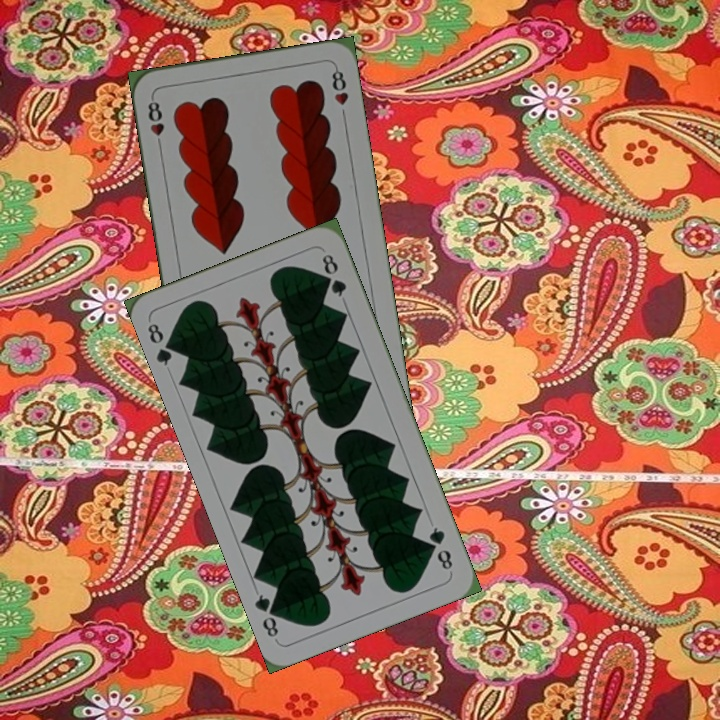G8: (143, 319, 180, 369), (425, 523, 456, 573)
H8: (144, 93, 167, 152)
